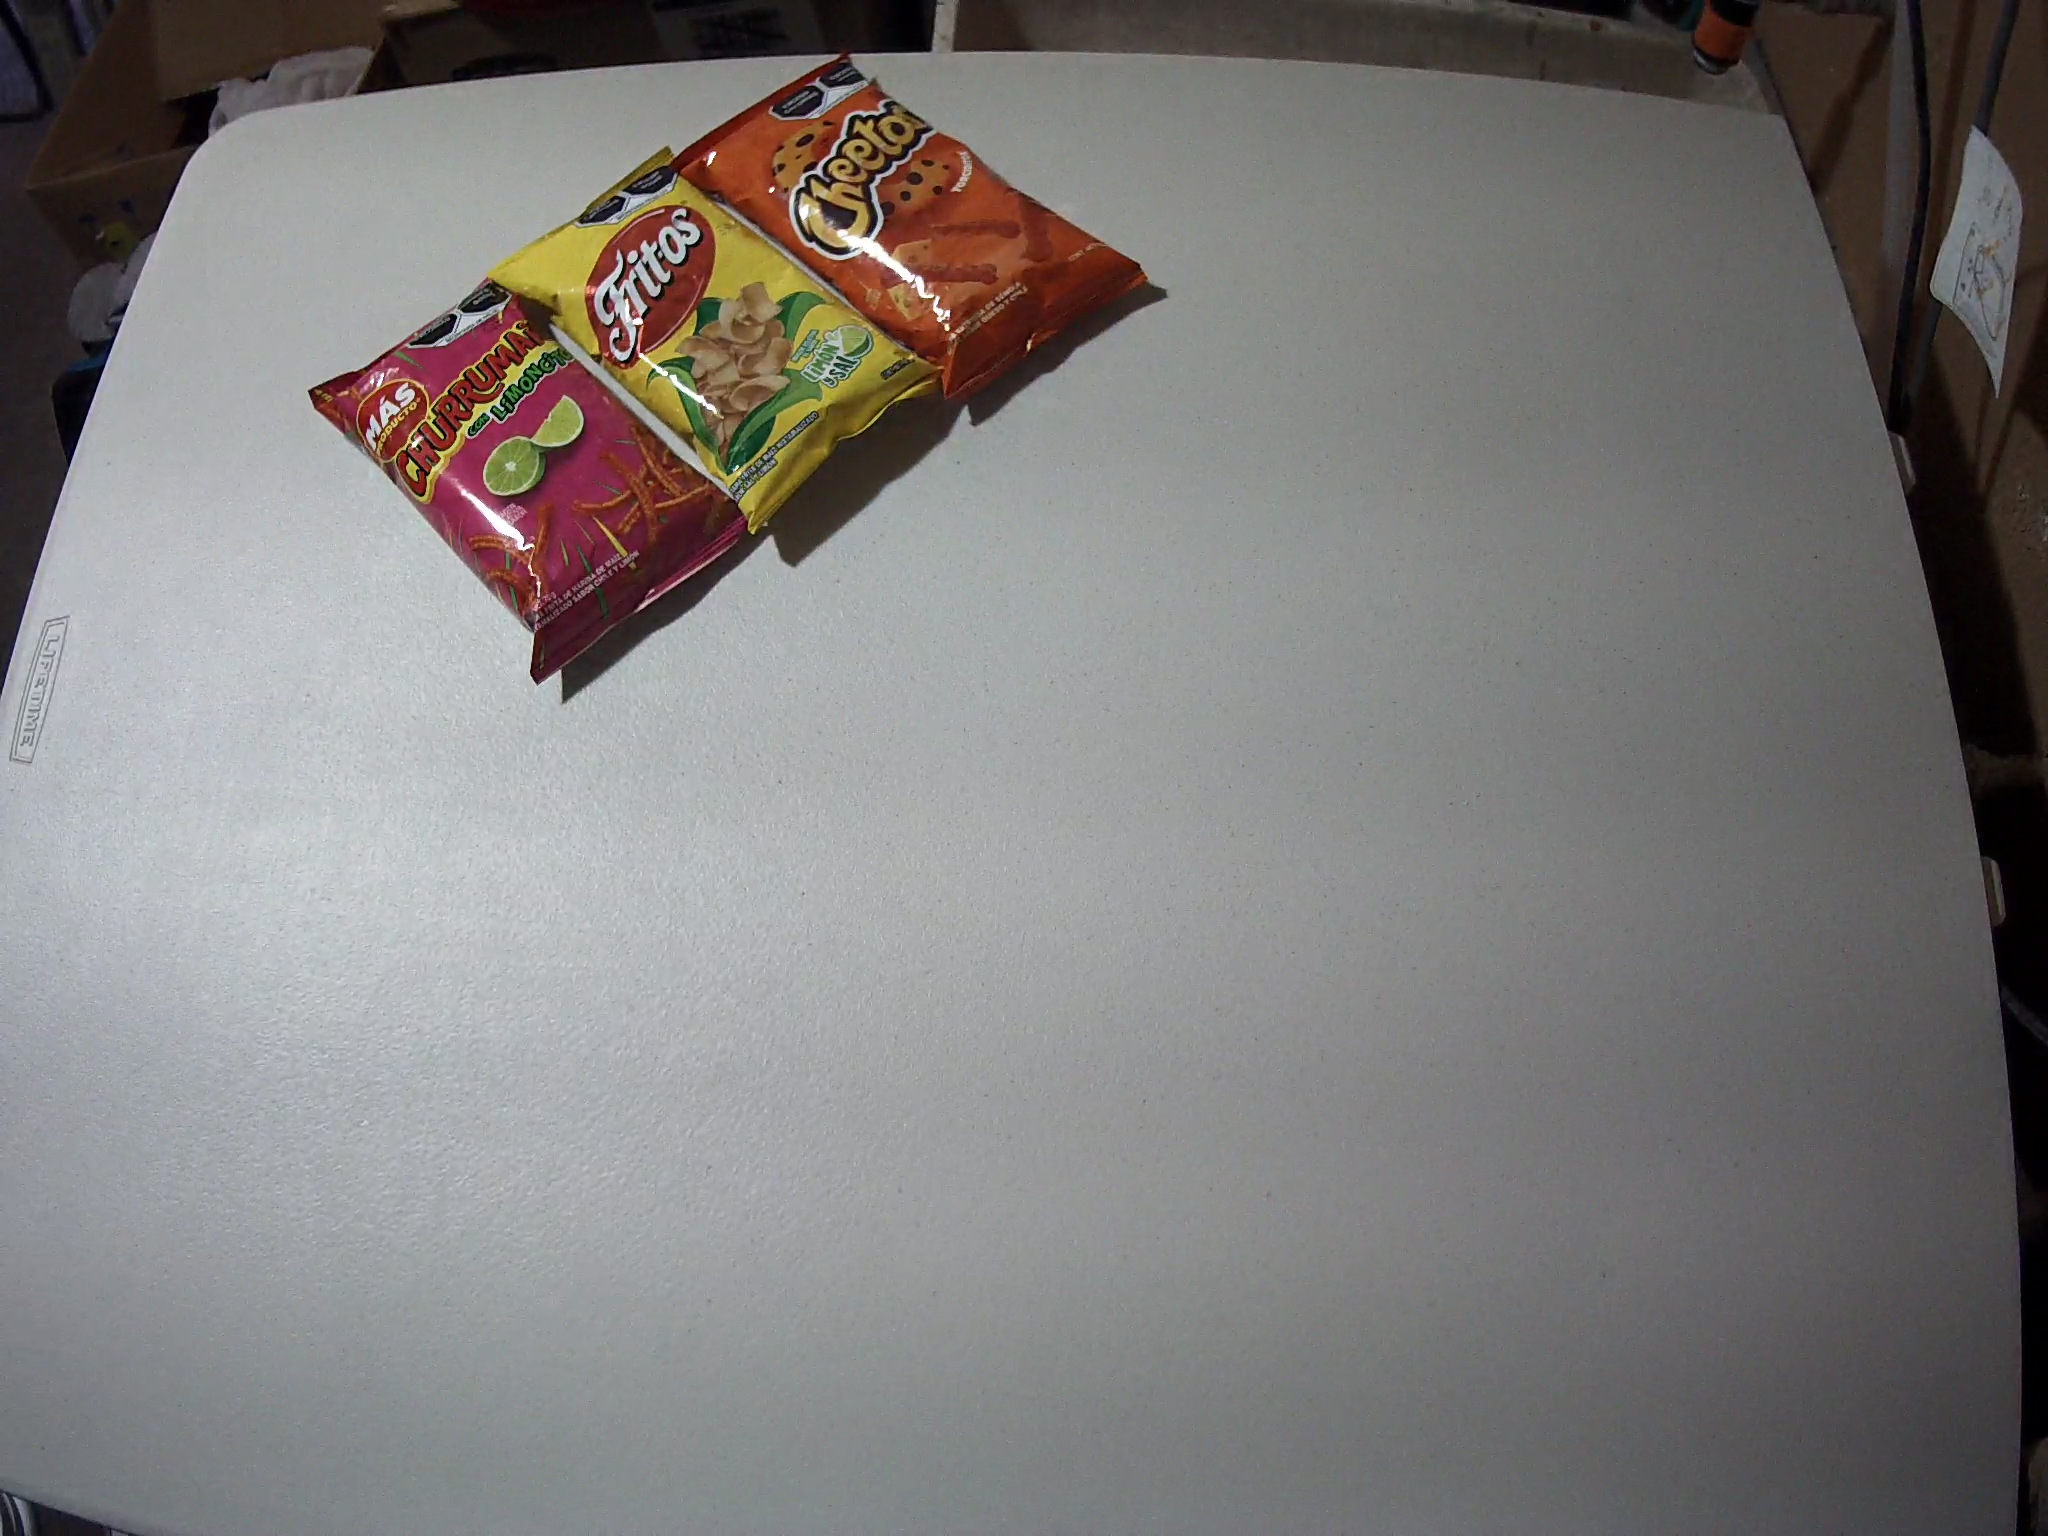CheetosTorciditos_55_F: (669, 53, 1151, 407)
Churrumais_70_F: (306, 269, 771, 687)
FritosSalLimon_65_F: (481, 148, 945, 537)
